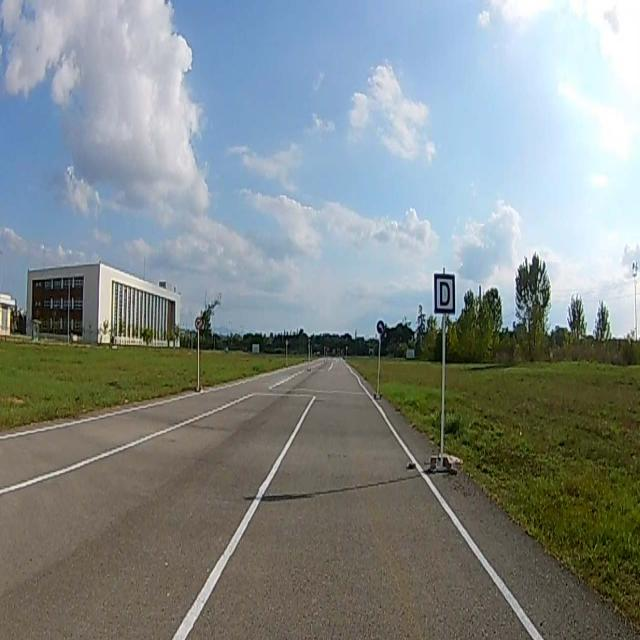durak: (435, 276, 455, 312)
